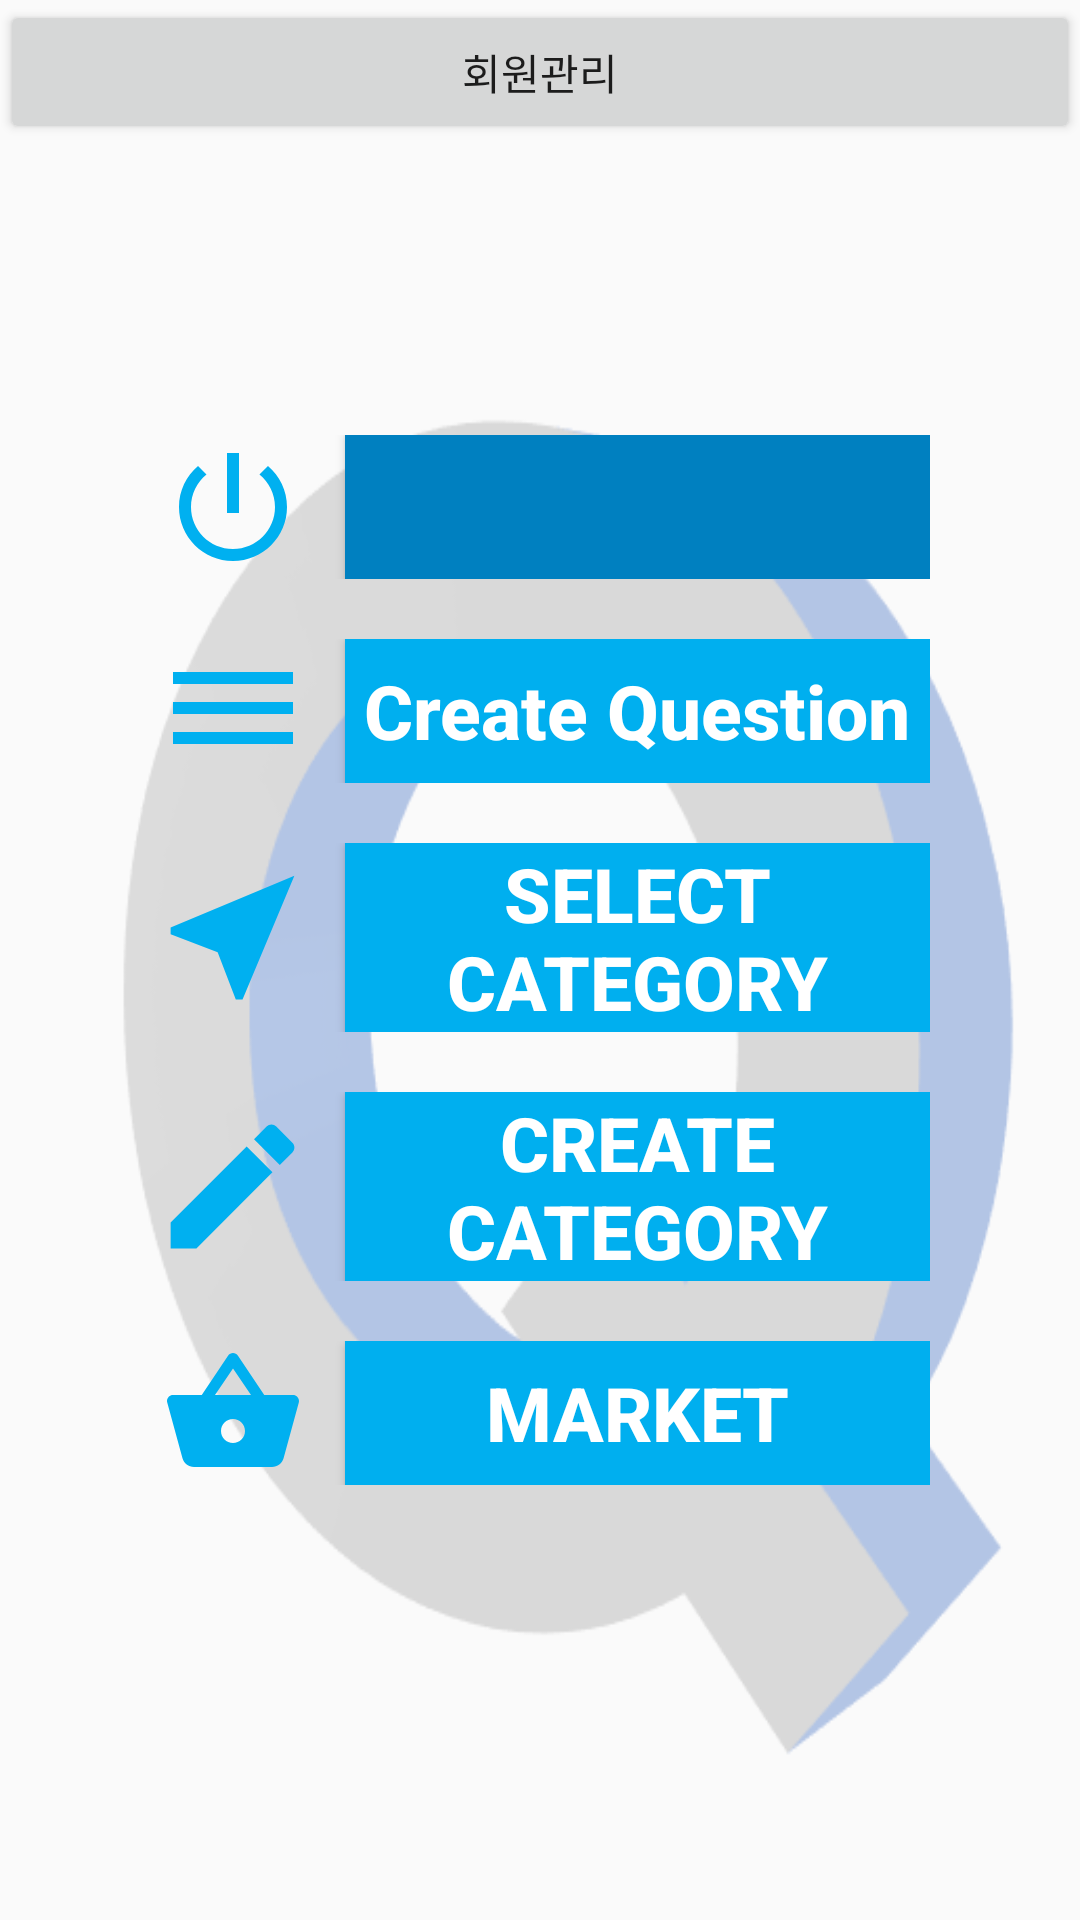

Named icons in this screenshot (1080x1920) and their centers, (x=x, y=y):
near me: (x=232, y=937)
power settings: (x=247, y=516)
shopping basket: (x=232, y=1413)
